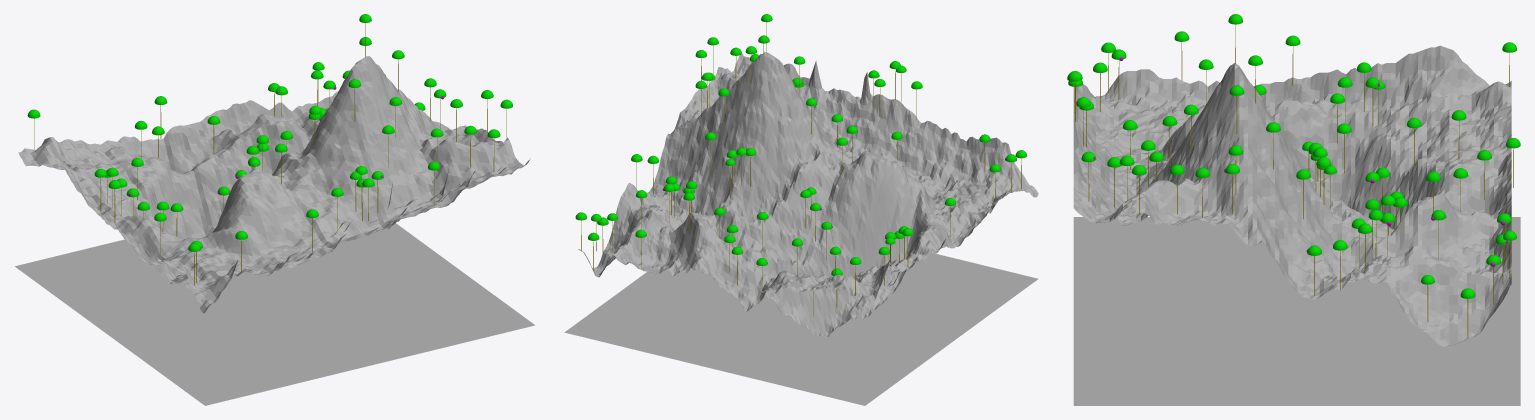
3 views of the same model, side by side, from view 1: azimuth 30°, elevation 25°; view 2: azimuth 150°, elevation 25°; view 3: azimuth 270°, elevation 25° (orthographic). The views are drawn at different scales.
Visible parts, largest first — view 1: <DXF_ROOT>; view 2: <DXF_ROOT>; view 3: <DXF_ROOT>.
Part boxes in pixels (<box>): <DXF_ROOT>: <box>15,14,534,405</box>; <DXF_ROOT>: <box>564,14,1038,405</box>; <DXF_ROOT>: <box>1067,14,1520,405</box>.
Bounding box in the file's own units: 103 × 82.38 × 101.
